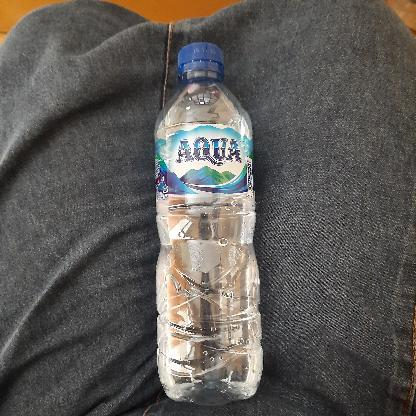Plastic Bottle: (152, 35, 262, 409)
